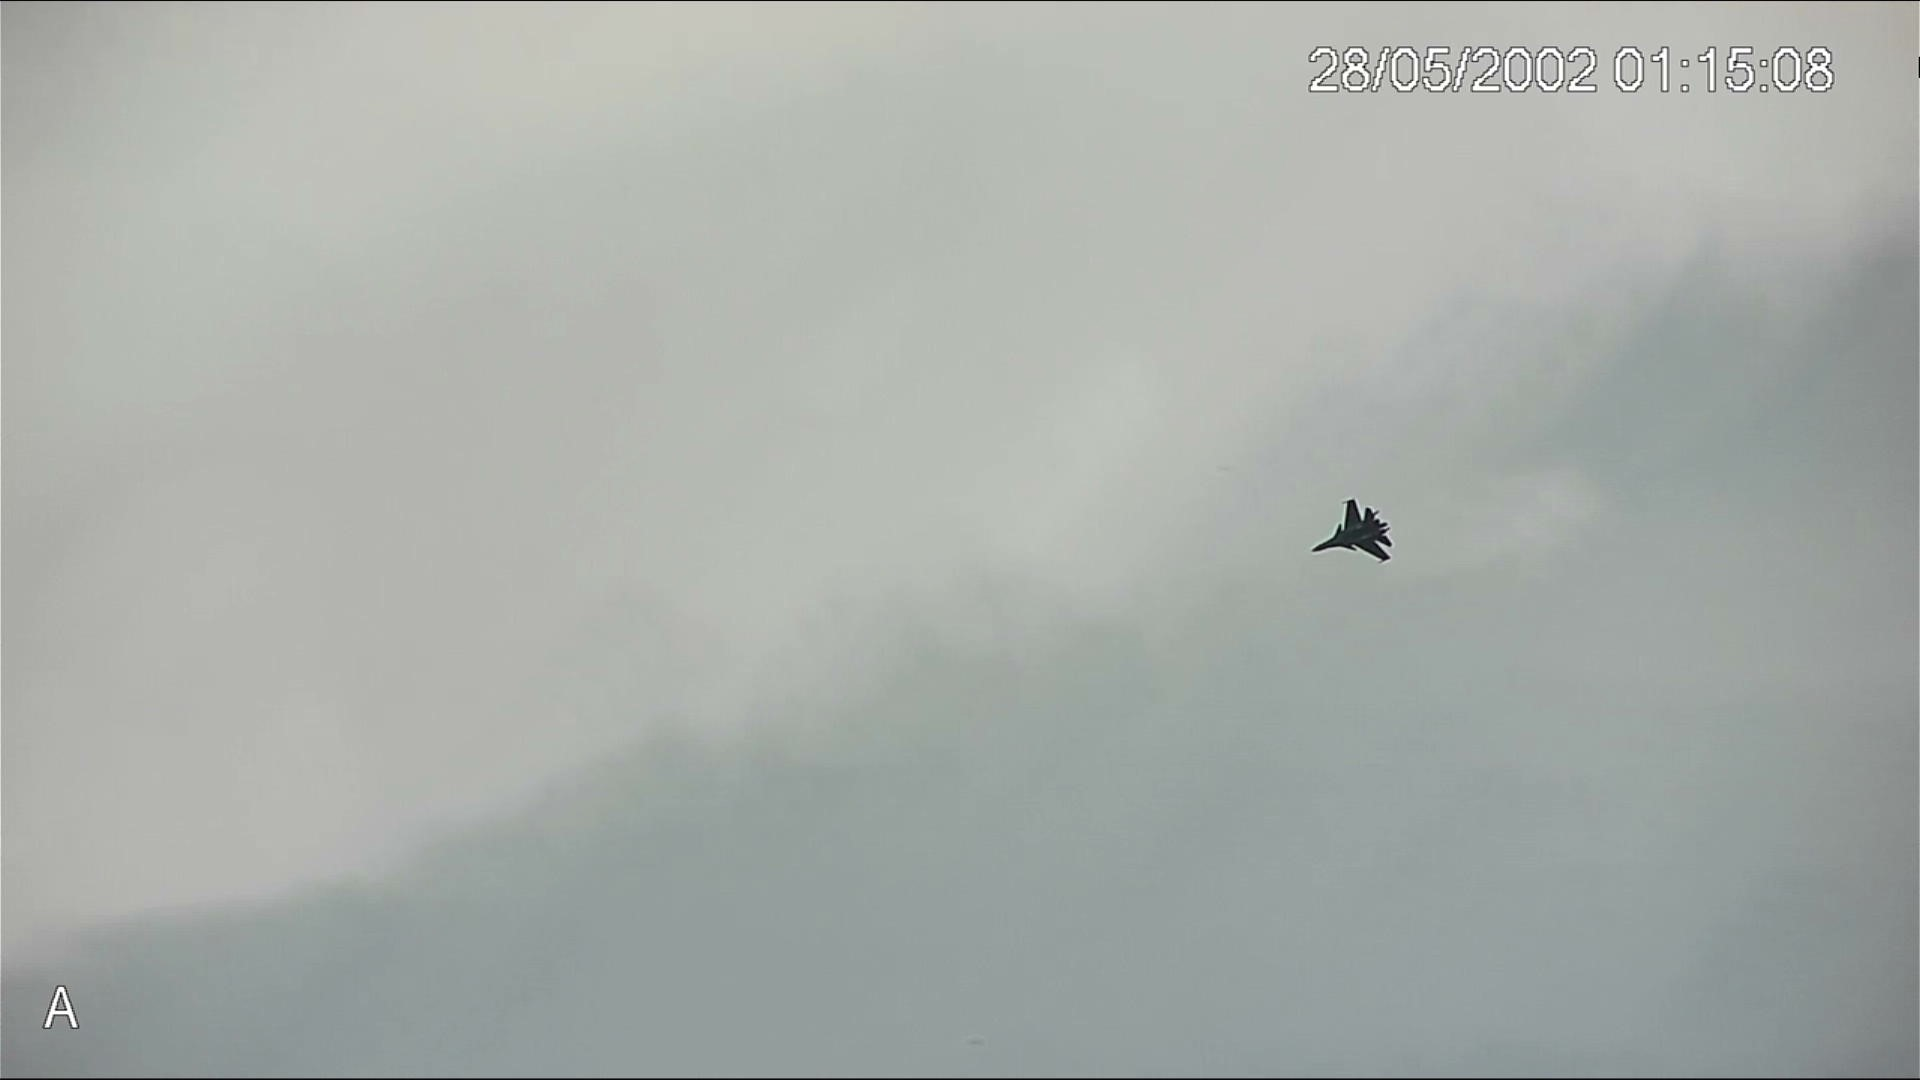SU_30: (1304, 497, 1398, 564)
